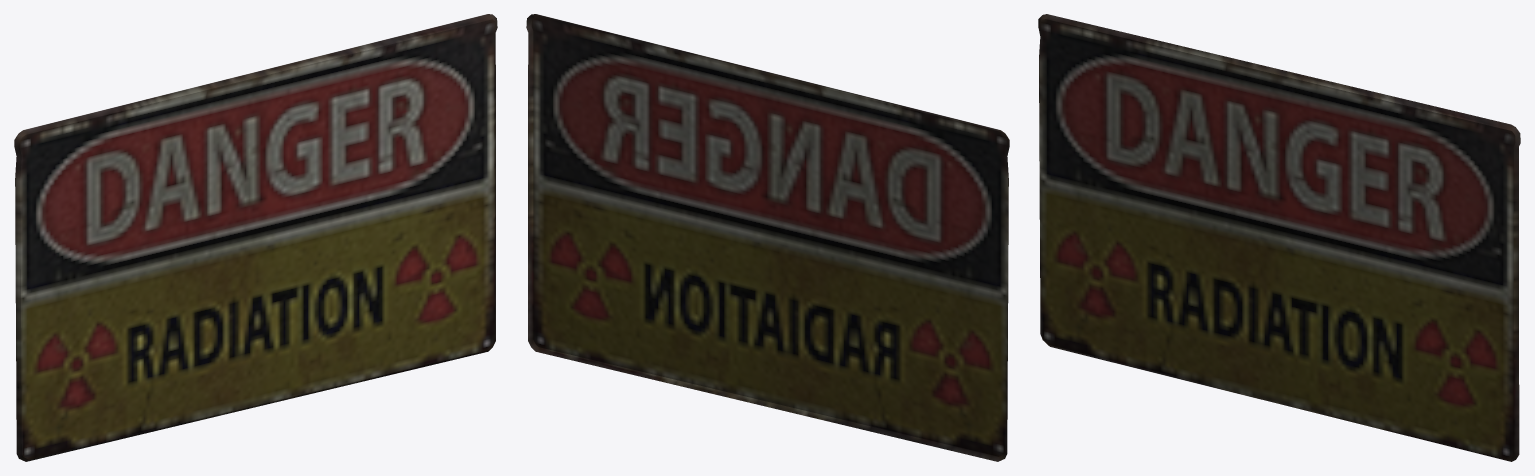
Rendered from sign_2.dae.
3 views of the same model, side by side, from view 1: azimuth 30°, elevation 25°; view 2: azimuth 150°, elevation 25°; view 3: azimuth 330°, elevation 25° (orthographic).
Parts seen in each view (by area): view 1: sign_2; view 2: sign_2; view 3: sign_2.
Part boxes in pixels (x1,y1,x2,y2): sign_2: [14, 14, 497, 461]; sign_2: [526, 14, 1009, 461]; sign_2: [1038, 14, 1520, 461].
Size of the model in its own units: 0.4399 by 0.003 by 0.2939.
1 material, 1 textured.
